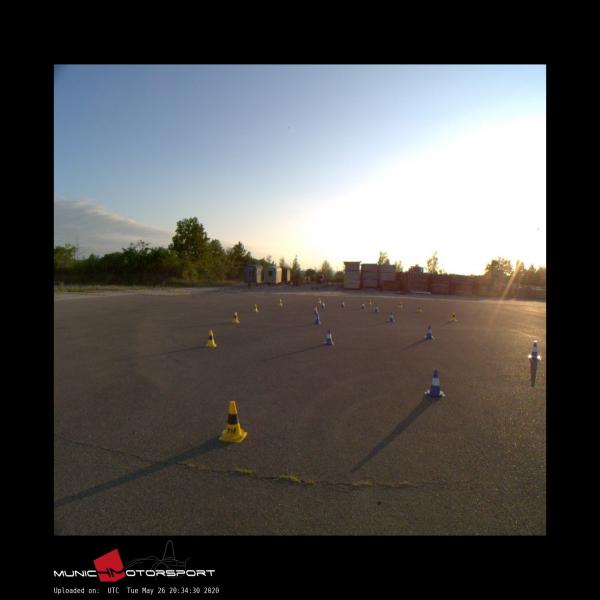blue_cone: (424, 370, 445, 397), (528, 340, 540, 359), (325, 329, 334, 345), (425, 324, 433, 338), (314, 312, 321, 324), (387, 311, 394, 321), (312, 305, 318, 314), (321, 301, 325, 308), (340, 300, 344, 307), (374, 305, 378, 312), (362, 302, 365, 308)
yellow_cone: (219, 400, 246, 442), (205, 329, 216, 347), (450, 311, 457, 321), (232, 312, 238, 322), (253, 303, 258, 312), (278, 299, 283, 306), (417, 305, 422, 312), (398, 302, 402, 308), (368, 299, 372, 304), (318, 298, 321, 303)
